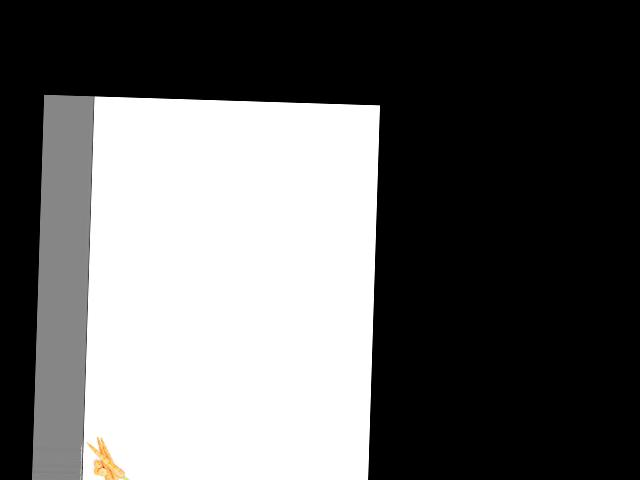carrot: (97, 435, 121, 480)
